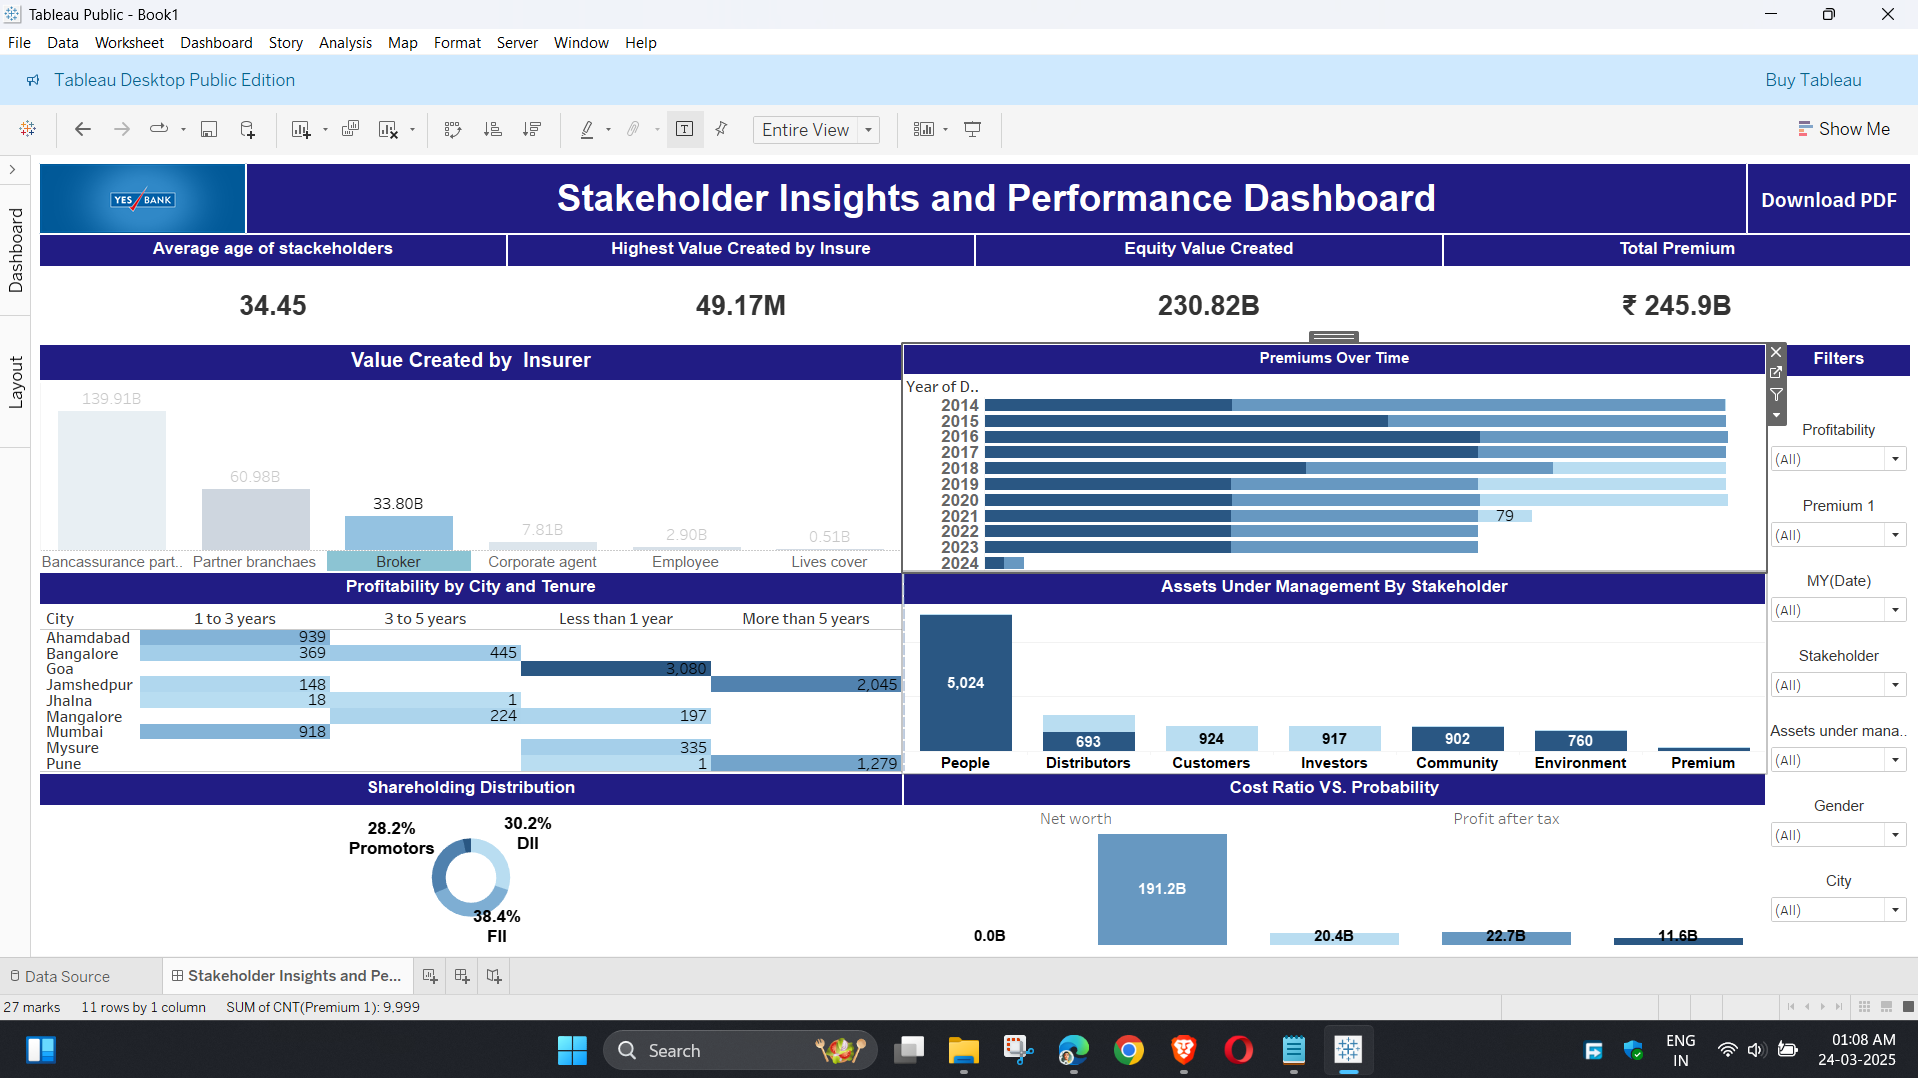

Layout of this report page (visuals, bound fields, positions):
{"tool":"tableau","page":{"name":"Stakeholder Insights and Performance Dashboard","canvas":[1000,1000],"units":"permille","ordinal":0},"visuals":[{"type":"image","param":"C:/Users/princ/Downloads/drive-download-20250322T191308Z-001/B.jpeg","box":[4.2,10,109.6,88.6]},{"type":"text","box":[113.9,10,795,88.6]},{"type":"dashboard-object","box":[908.9,10,86.9,88.6]},{"type":"worksheet","title":"Average age of stackeholders","mark":"Automatic","box":[4.2,98.6,247.9,137.3]},{"type":"worksheet","title":"HIght Value Created by Insure","mark":"Automatic","box":[252.1,98.6,247.9,137.3]},{"type":"worksheet","title":"Equity Value Created","mark":"Automatic","box":[500,98.6,247.9,137.3]},{"type":"worksheet","title":"Total Premium","mark":"Automatic","box":[747.9,98.6,247.9,137.3]},{"type":"worksheet","title":"Value Created by  Insurer","mark":"Automatic","rows":["Value Created"],"cols":["Insurer"],"box":[4.2,236,457.6,284.6]},{"type":"worksheet","title":"Premiums Over Time","mark":"Bar","rows":["Date"],"cols":["Premium 1"],"box":[461.9,236,457.1,284.6]},{"type":"worksheet","title":"Filters","mark":"Automatic","box":[920,237.2,75.2,94.9]},{"type":"filter","title":"Filters","param":"[federated.06imo0f0f5eswl1f421rk0orb0uy].[none:Profitability:nk]","box":[920,332.1,75.2,94.9]},{"type":"filter","title":"Filters","param":"[federated.06imo0f0f5eswl1f421rk0orb0uy].[none:Premium 1:nk]","box":[920,427,75.2,93.6]},{"type":"worksheet","title":"Profitability by City and Tenure","mark":"Square","rows":["City"],"cols":["Policy tenuer"],"box":[4.2,520.6,457.6,250.9]},{"type":"worksheet","title":"Assets Under Management By Stakeholder","mark":"Automatic","rows":["Assets under management"],"cols":["Stakeholder"],"box":[461.9,520.6,457.1,250.9]},{"type":"filter","title":"Filters","param":"[federated.06imo0f0f5eswl1f421rk0orb0uy].[my:Date:ok]","box":[920,520.6,75.2,93.6]},{"type":"filter","title":"Filters","param":"[federated.06imo0f0f5eswl1f421rk0orb0uy].[none:Stakeholder:nk]","box":[920,614.2,75.2,93.6]},{"type":"filter","title":"Filters","param":"[federated.06imo0f0f5eswl1f421rk0orb0uy].[none:Assets under management:nk]","box":[920,707.9,75.2,93.6]},{"type":"worksheet","title":"Shareholding Distribution","mark":"Pie","rows":["Calculation_1159114014234558464","Calculation_1159114014234558464"],"box":[4.2,771.5,457.6,218.5]},{"type":"worksheet","title":"Cost Ratio VS. Probability","mark":"Automatic","rows":["Value Created"],"cols":["Profitability","Cost ratio"],"box":[461.9,771.5,457.1,218.5]},{"type":"filter","title":"Filters","param":"[federated.06imo0f0f5eswl1f421rk0orb0uy].[none:Gender:nk]","box":[920,801.5,75.2,93.6]},{"type":"filter","title":"Filters","param":"[federated.06imo0f0f5eswl1f421rk0orb0uy].[none:City:nk]","box":[920,895.1,75.2,93.6]}]}

Visuals, with their boxes on the dashboard's canvas, which has no fixed pixel size, in thousandths of its width and height (x1, y1, x2, y2). These are canvas units, not pixel positions in the 1918x1078 screenshot, which may show the page scaled, cropped or inside an application window:
image: rect(4, 10, 114, 99)
text: rect(114, 10, 909, 99)
dashboard-object: rect(909, 10, 996, 99)
"Average age of stackeholders" worksheet: rect(4, 99, 252, 236)
"HIght Value Created by Insure" worksheet: rect(252, 99, 500, 236)
"Equity Value Created" worksheet: rect(500, 99, 748, 236)
"Total Premium" worksheet: rect(748, 99, 996, 236)
"Value Created by  Insurer" worksheet: rect(4, 236, 462, 521)
"Premiums Over Time" worksheet (Bar marks): rect(462, 236, 919, 521)
"Filters" worksheet: rect(920, 237, 995, 332)
"Filters" filter: rect(920, 332, 995, 427)
"Filters" filter: rect(920, 427, 995, 521)
"Profitability by City and Tenure" worksheet (Square marks): rect(4, 521, 462, 772)
"Assets Under Management By Stakeholder" worksheet: rect(462, 521, 919, 772)
"Filters" filter: rect(920, 521, 995, 614)
"Filters" filter: rect(920, 614, 995, 708)
"Filters" filter: rect(920, 708, 995, 802)
"Shareholding Distribution" worksheet (Pie marks): rect(4, 772, 462, 990)
"Cost Ratio VS. Probability" worksheet: rect(462, 772, 919, 990)
"Filters" filter: rect(920, 802, 995, 895)
"Filters" filter: rect(920, 895, 995, 989)
